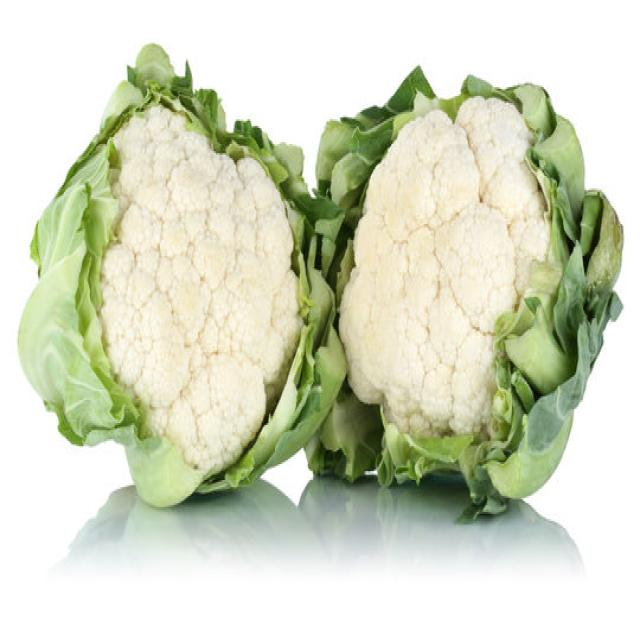Cauliflower: (96, 101, 302, 476), (337, 92, 552, 442)
